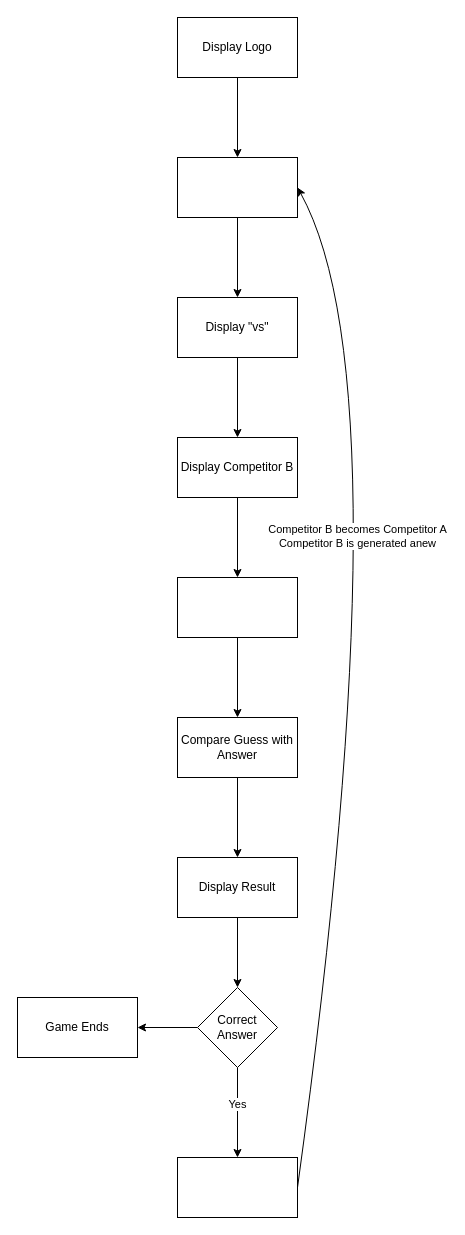
The diagram is 465 pixels wide and 1235 high, and some of its shapes have lost their labels. Here are the shapes that lost their labels. From the top down, the box of each, then its label:
(176, 156, 298, 218): Display Competitor A
(176, 576, 298, 638): Ask for Input
(176, 1156, 298, 1218): Game Continues
